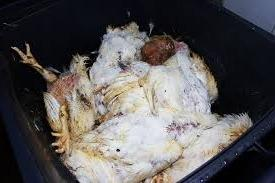AbNormal: (9, 19, 248, 177)
